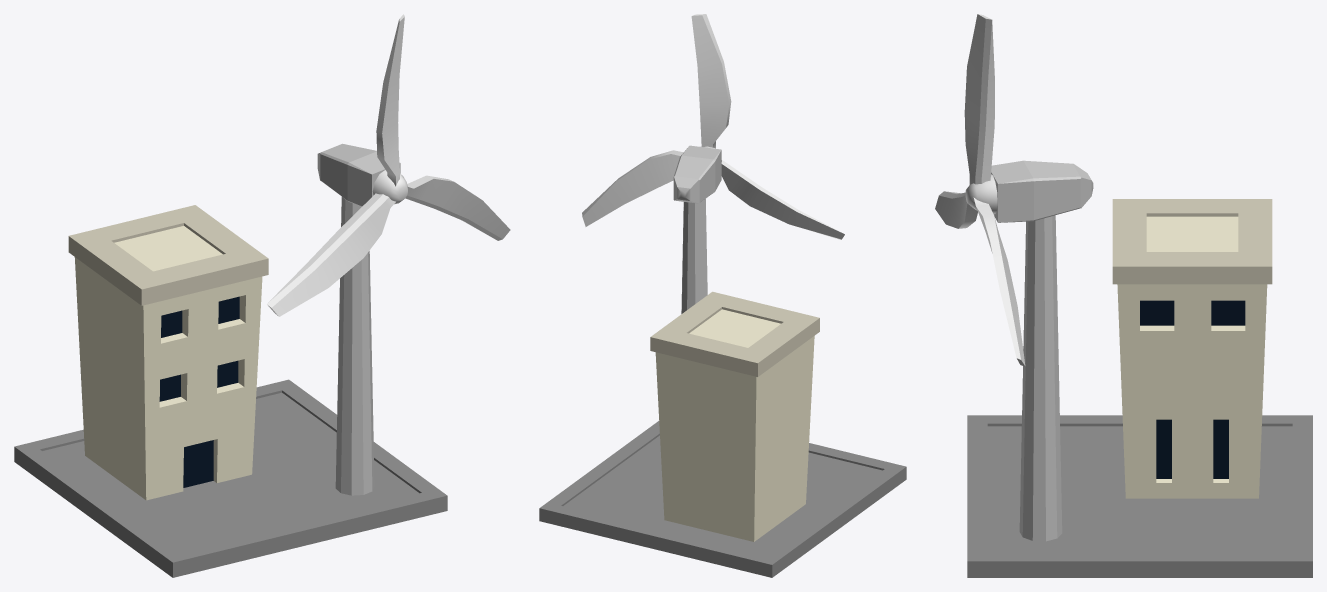
The model's file is SubOffice_WindTurbine_Model.fbx.
The picture shows the model from 3 angles, left to right: view 1: azimuth 30°, elevation 25°; view 2: azimuth 150°, elevation 25°; view 3: azimuth 270°, elevation 25°; orthographic projection. The views are drawn at different scales.
Parts seen in each view (by area): view 1: pCube29, pCube7, WindTurbine_Model:pCube14; view 2: pCube29, pCube7, WindTurbine_Model:pCube14; view 3: pCube29, pCube7, WindTurbine_Model:pCube14.
Boxes of the visible parts, x1,y1,x2,y2 form: pCube29: [68, 205, 268, 500]; pCube7: [14, 379, 447, 577]; WindTurbine_Model:pCube14: [267, 14, 510, 495]; pCube29: [650, 291, 819, 541]; pCube7: [539, 421, 906, 577]; WindTurbine_Model:pCube14: [582, 14, 844, 313]; pCube29: [1112, 199, 1272, 498]; pCube7: [967, 415, 1312, 577]; WindTurbine_Model:pCube14: [935, 14, 1093, 541].
Size of the model in its own units: 28.95 by 38.1 by 24.12.
